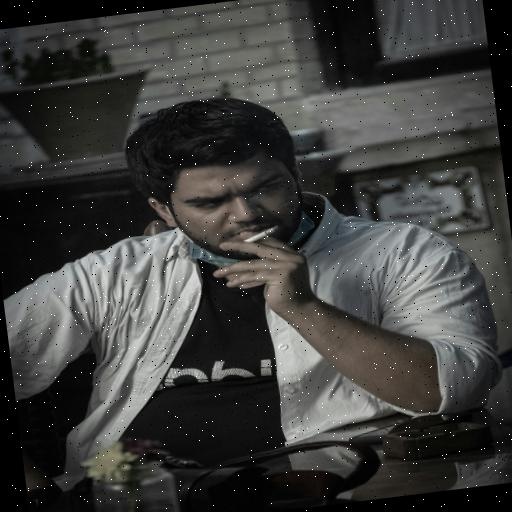terdeteksi pegang rokok: (186, 144, 334, 295)
